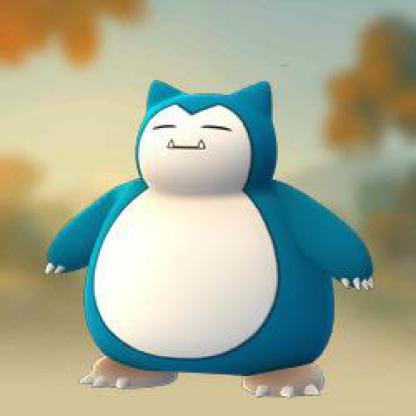Snorlax: (16, 13, 415, 415)
